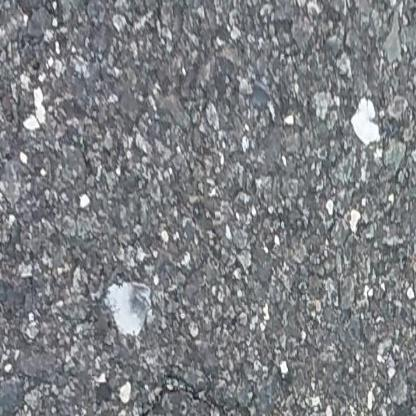Cracks: (122, 384, 269, 416)
